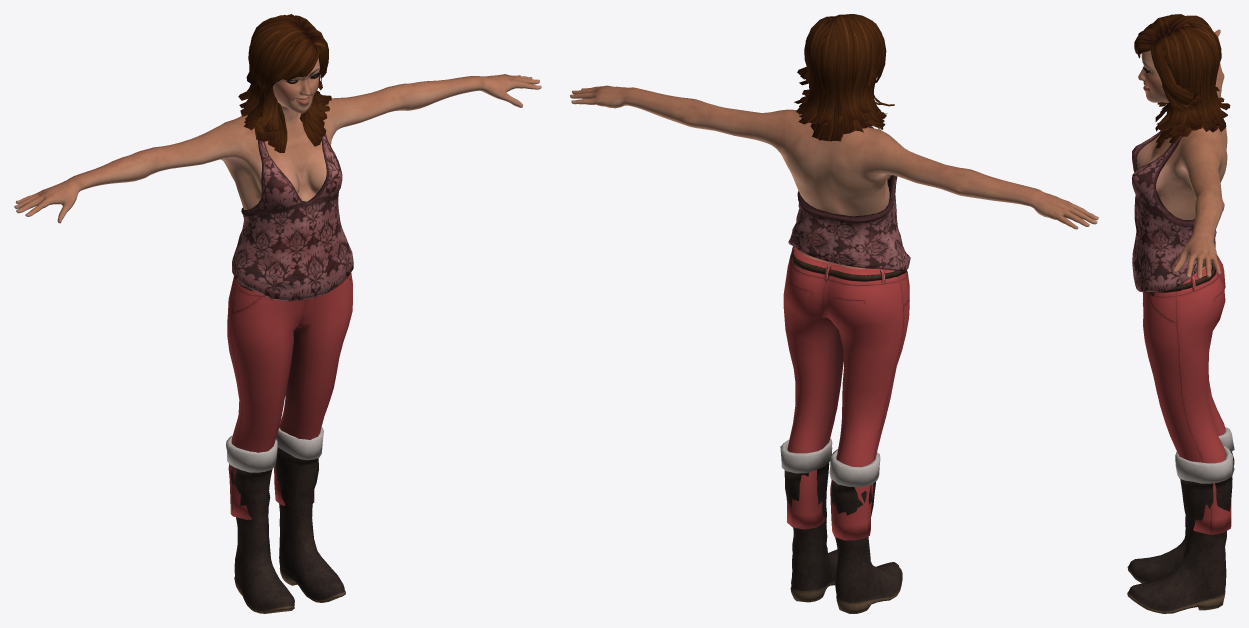
File: Personaje2.obj
The picture shows the model from 3 angles, left to right: view 1: azimuth 30°, elevation 25°; view 2: azimuth 150°, elevation 25°; view 3: azimuth 270°, elevation 25°; orthographic projection.
Visible parts, largest first — view 1: Body, Bottoms, Shoes, Tops, Hair; view 2: Bottoms, Body, Shoes, Hair, Tops; view 3: Bottoms, Shoes, Body, Hair, Tops.
Boxes of the visible parts, x1=… form: Body: x1=14, y1=58, x2=541, y2=223; Bottoms: x1=227, y1=273, x2=352, y2=519; Shoes: x1=226, y1=421, x2=345, y2=613; Tops: x1=232, y1=134, x2=353, y2=301; Hair: x1=238, y1=14, x2=331, y2=152; Bottoms: x1=783, y1=246, x2=909, y2=540; Body: x1=570, y1=85, x2=1098, y2=268; Shoes: x1=780, y1=438, x2=902, y2=613; Hair: x1=794, y1=14, x2=894, y2=141; Tops: x1=788, y1=126, x2=910, y2=271; Bottoms: x1=1142, y1=254, x2=1231, y2=534; Shoes: x1=1127, y1=427, x2=1234, y2=613; Body: x1=1136, y1=26, x2=1227, y2=278; Hair: x1=1134, y1=14, x2=1230, y2=148; Tops: x1=1132, y1=130, x2=1216, y2=291.
Size of the model in its own units: 171 by 180 by 30.43.
5 materials, 5 textured.
